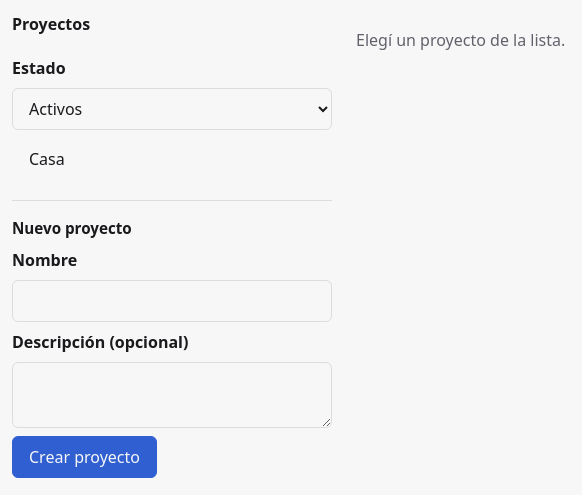
ProjectsPage list › changing the status filter requests that status
Expected: the button "Casa" is shown, left=12, top=138, right=332, bottom=180
Select "Completados" in the dropdown labelled "Estado" at coordinates (172, 109), box left=12, top=88, right=332, bottom=130
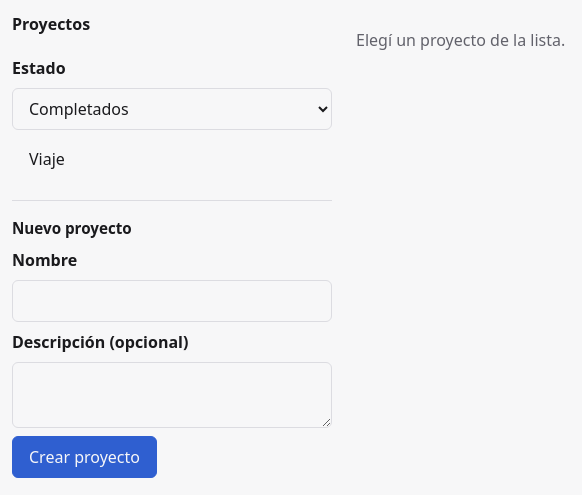
Result: the button "Viaje" is shown at left=12, top=138, right=332, bottom=180
Result: the button "Casa" is gone
